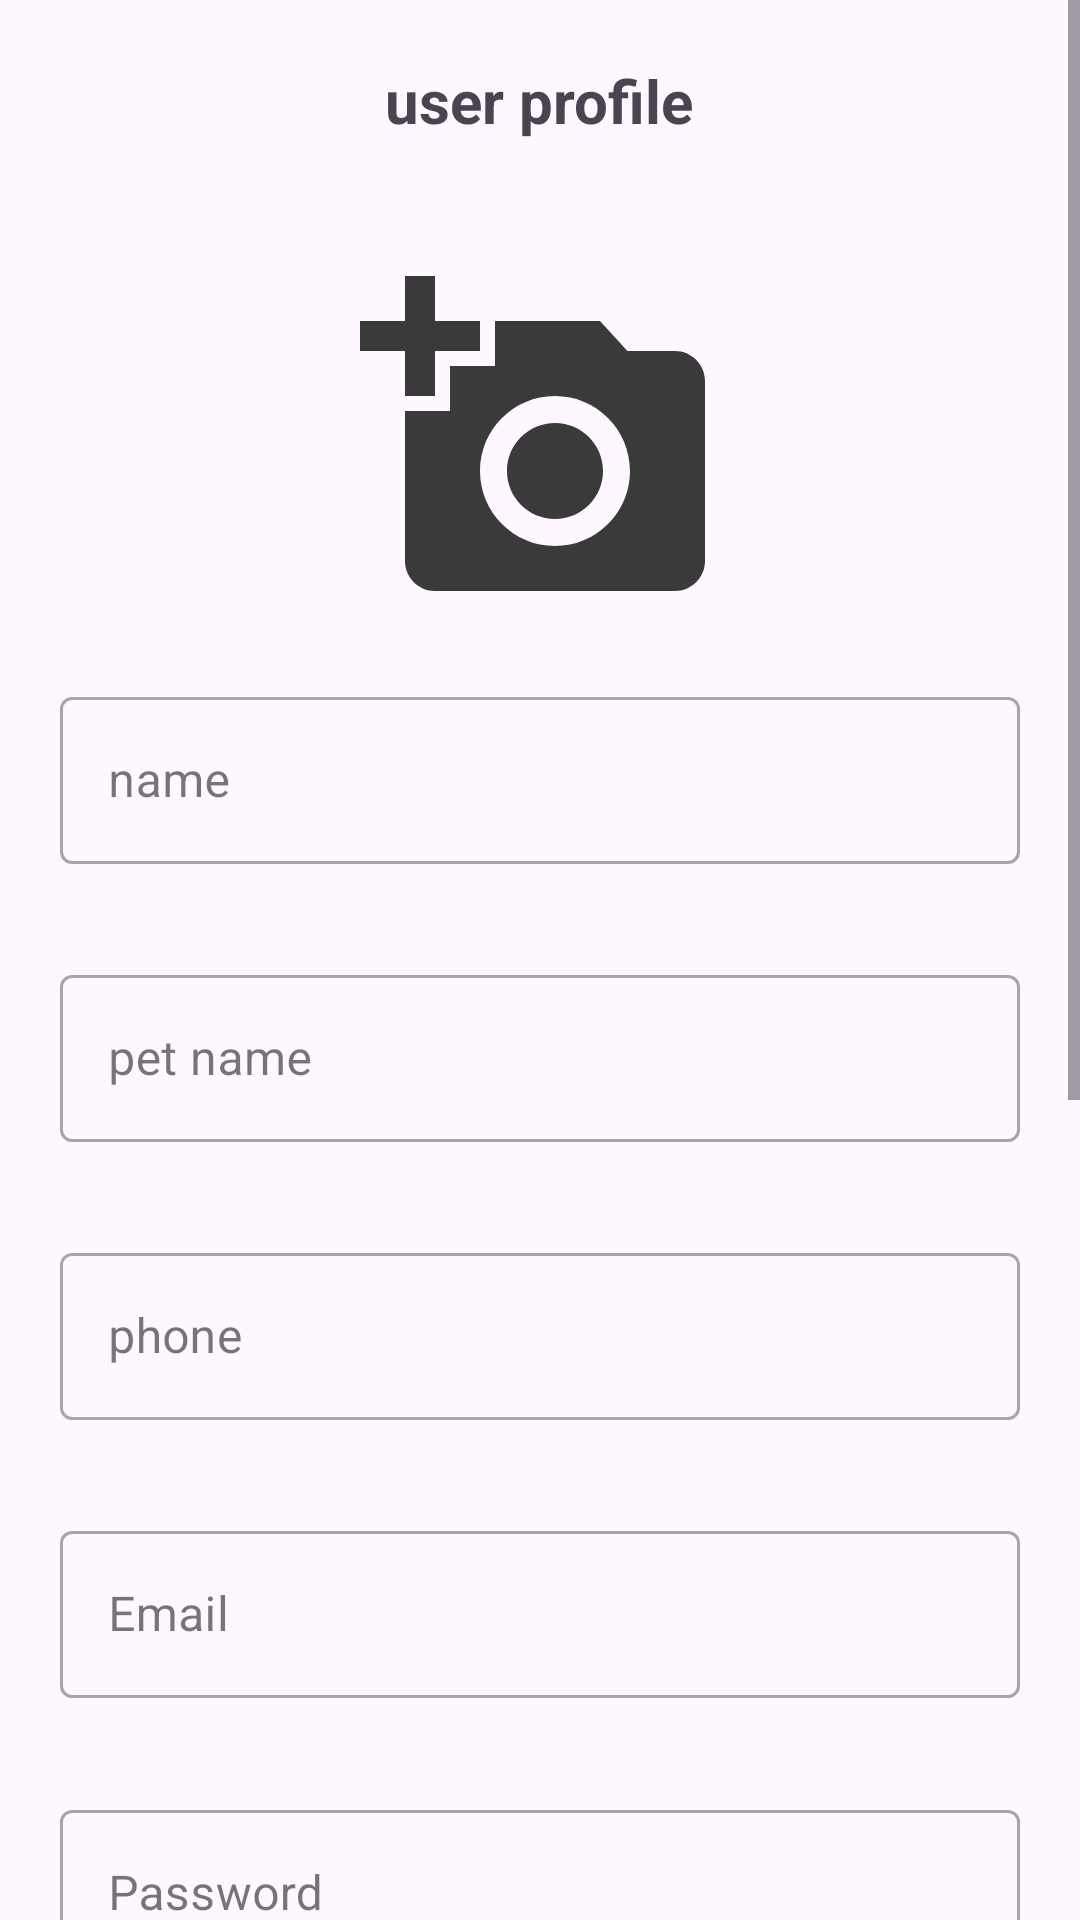

Screen size 1080w x 1920h. Icon name, then its box in pixels as (x1, y1, x2, y2):
click to put a profile picture: (360, 276, 705, 591)
